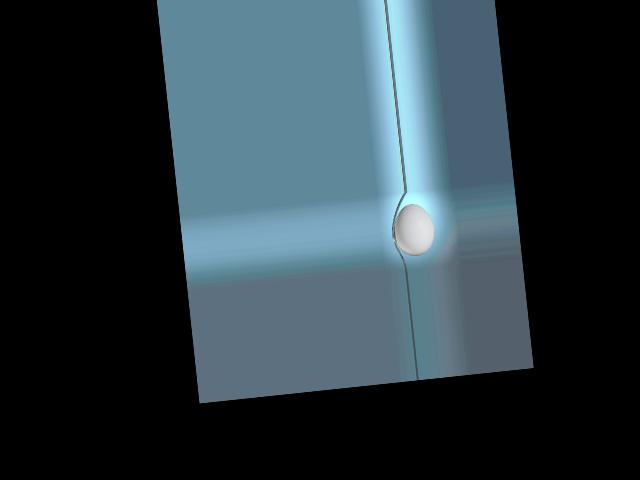egg: (391, 202, 436, 258)
